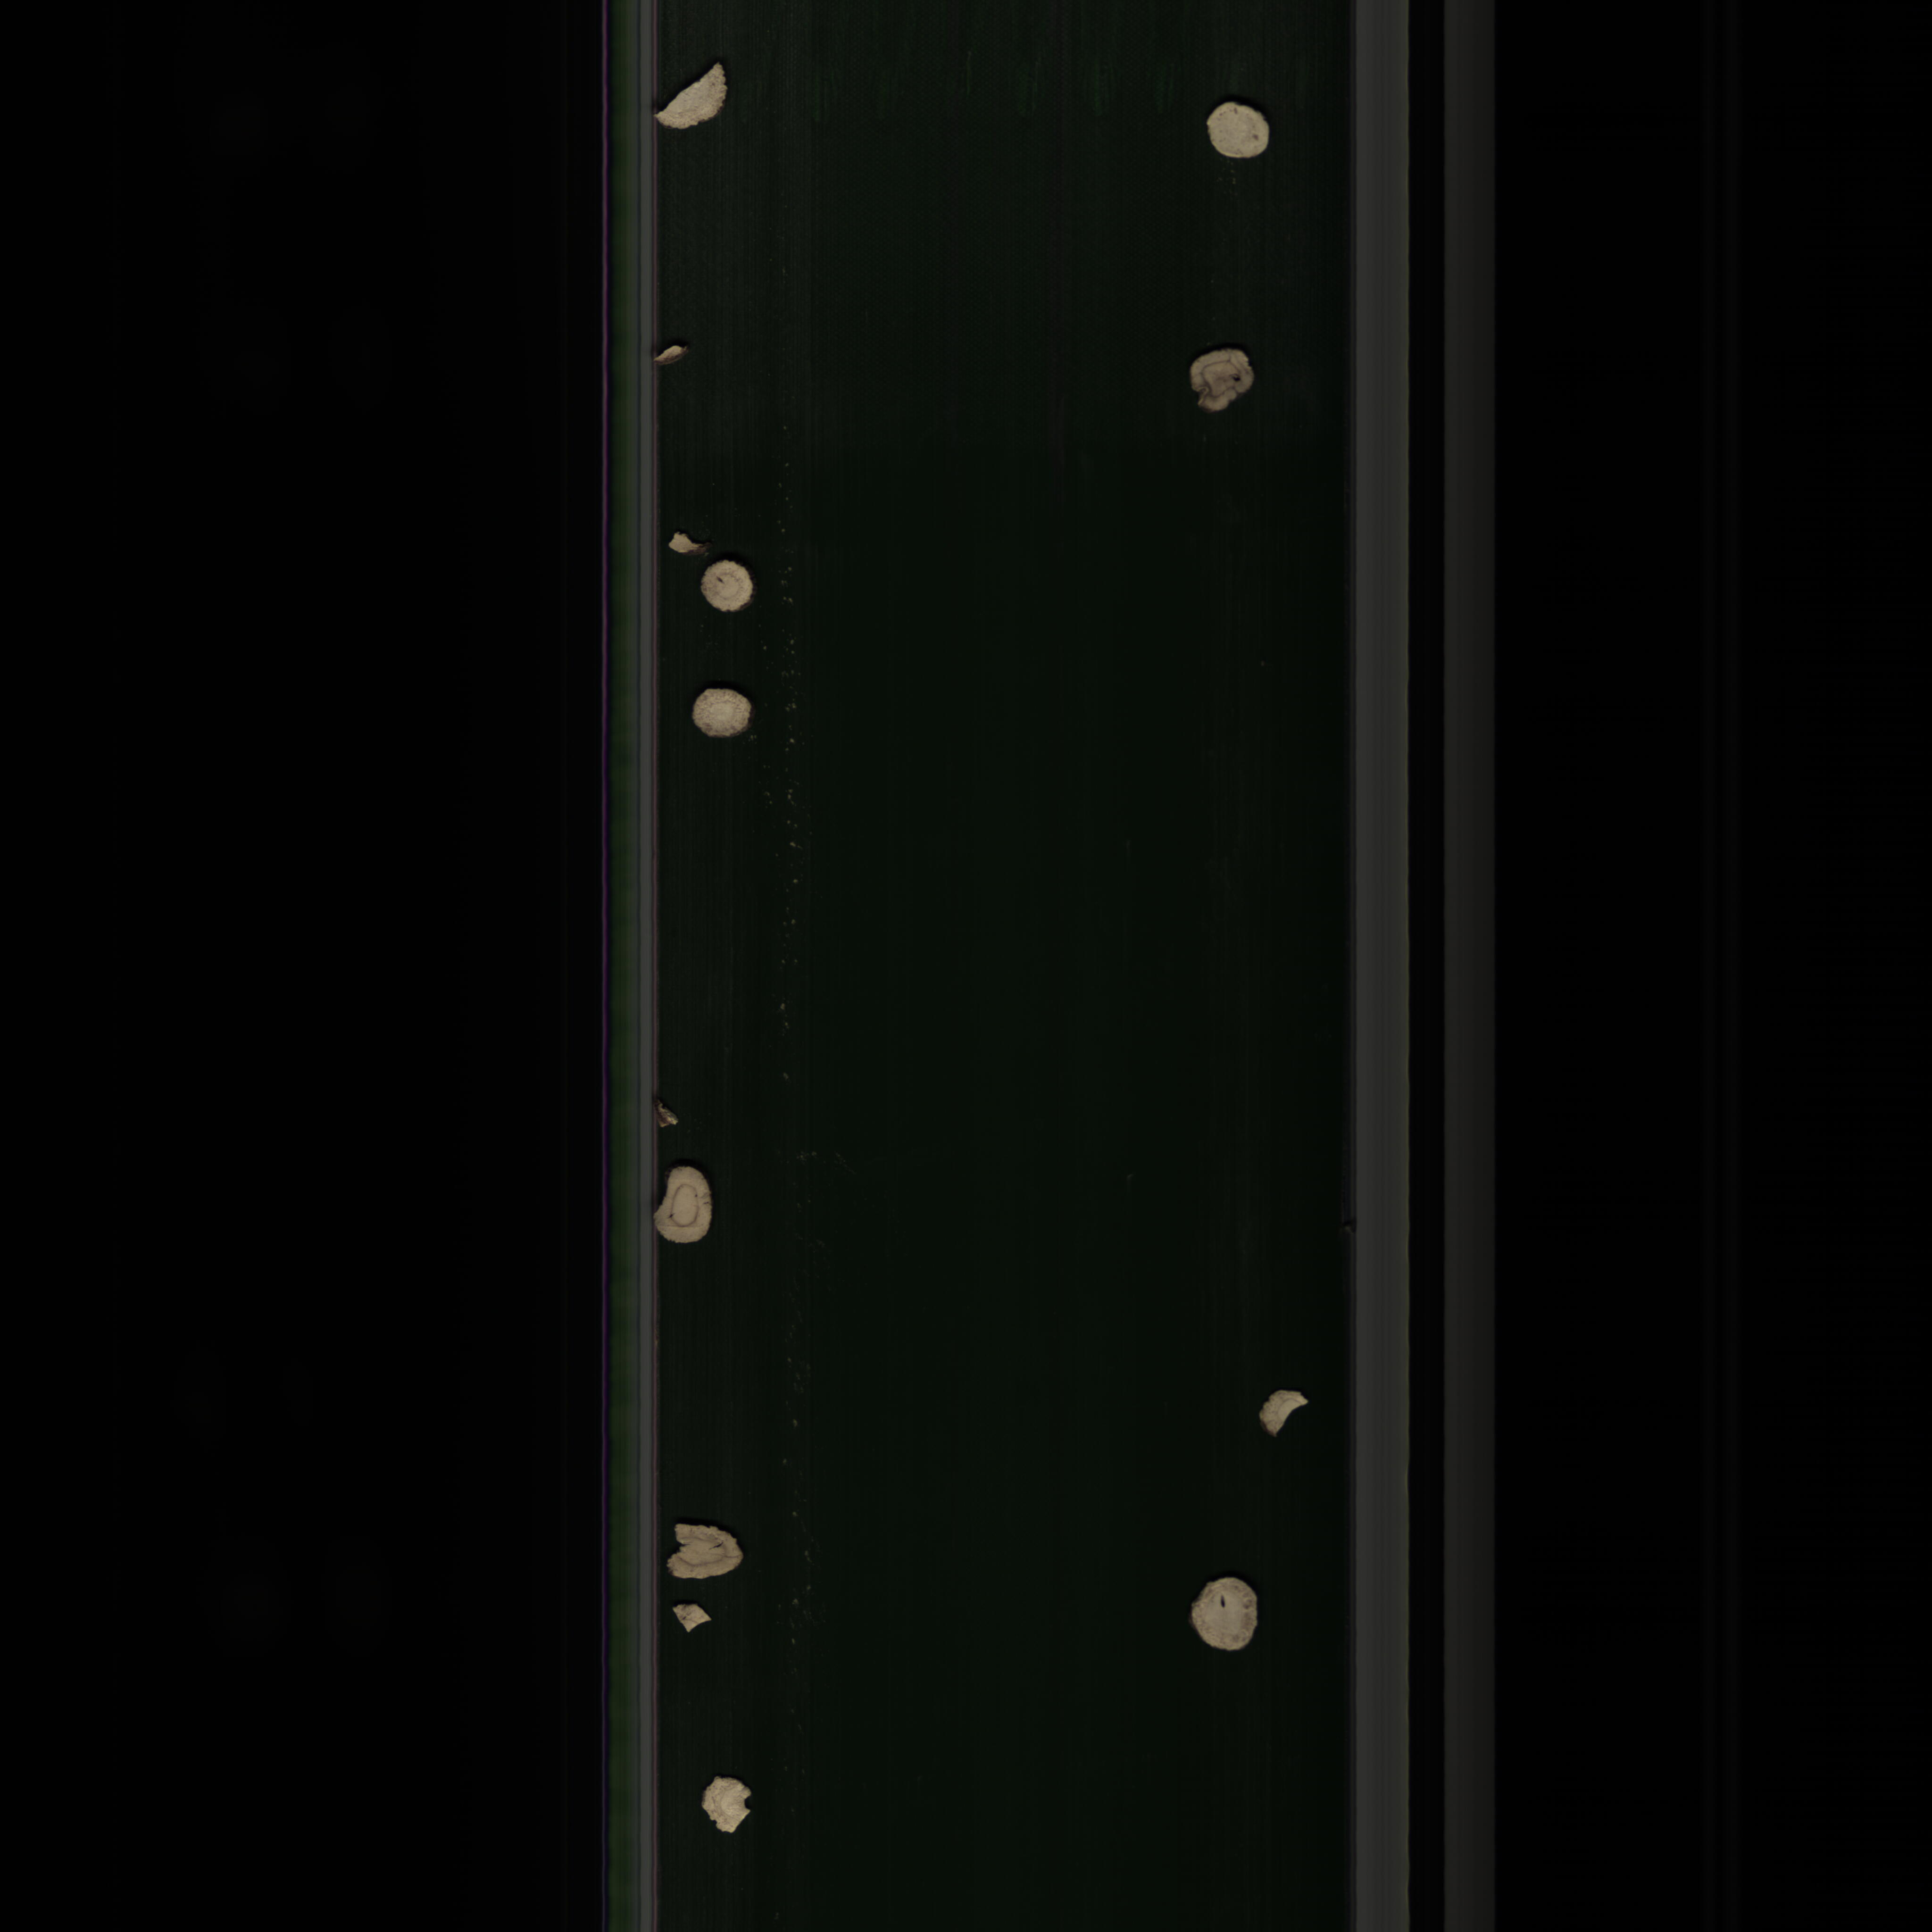debris: (658, 1507, 755, 1587), (655, 53, 738, 136), (699, 1773, 761, 1840), (1253, 1391, 1316, 1444), (669, 1598, 715, 1642), (667, 531, 711, 561)
hole: (1184, 1571, 1267, 1665), (704, 561, 764, 617)
moldy: (1185, 345, 1261, 426)
